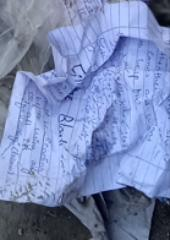paper: (0, 0, 168, 206)
